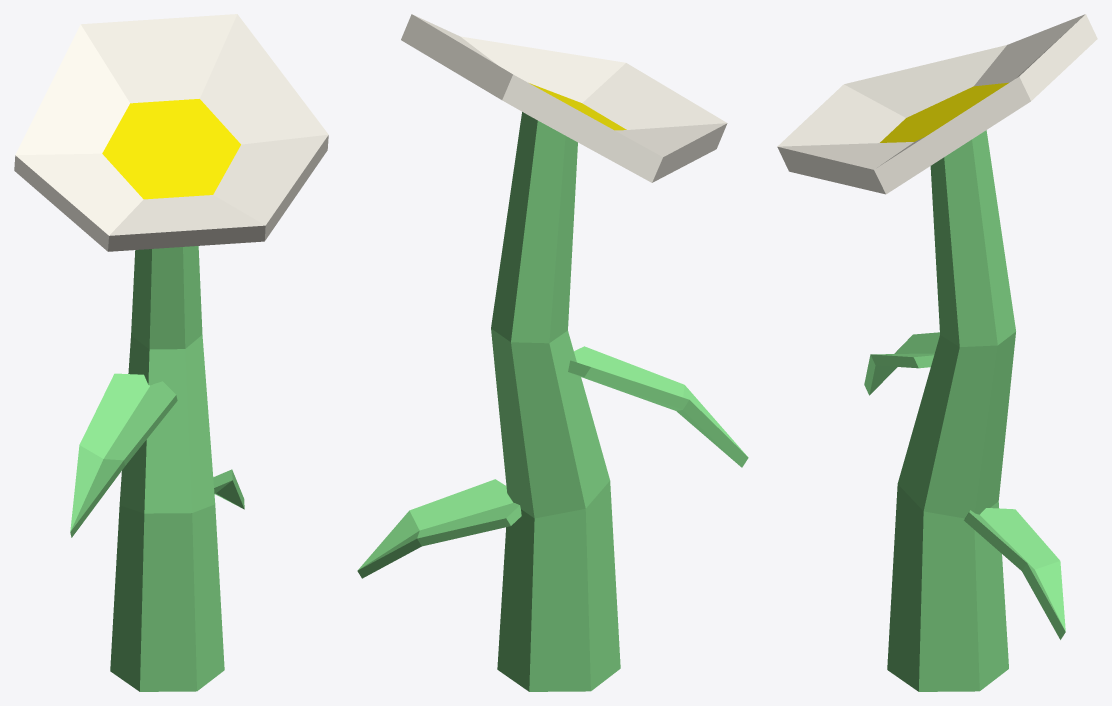
The model's file is fleur2_lowpoly.fbx.
The picture shows the model from 3 angles, left to right: view 1: azimuth 30°, elevation 25°; view 2: azimuth 150°, elevation 25°; view 3: azimuth 270°, elevation 25°; orthographic projection. The views are drawn at different scales.
Visible parts, largest first — view 1: Cylinder.002, Cylinder.001, Cylinder.003; view 2: Cylinder.001, Cylinder.002, Cylinder.003; view 3: Cylinder.001, Cylinder.002, Cylinder.003.
Part boxes in pixels (x1,y1,x2,y2): Cylinder.002: (14, 14, 328, 251); Cylinder.001: (70, 246, 244, 691); Cylinder.003: (102, 99, 240, 199); Cylinder.001: (357, 112, 748, 691); Cylinder.002: (401, 14, 727, 182); Cylinder.003: (529, 83, 626, 130); Cylinder.001: (864, 130, 1065, 691); Cylinder.002: (777, 14, 1097, 194); Cylinder.003: (880, 82, 1008, 142).
Bounding box in the file's own units: 0.4067 × 0.3947 × 0.8785.
